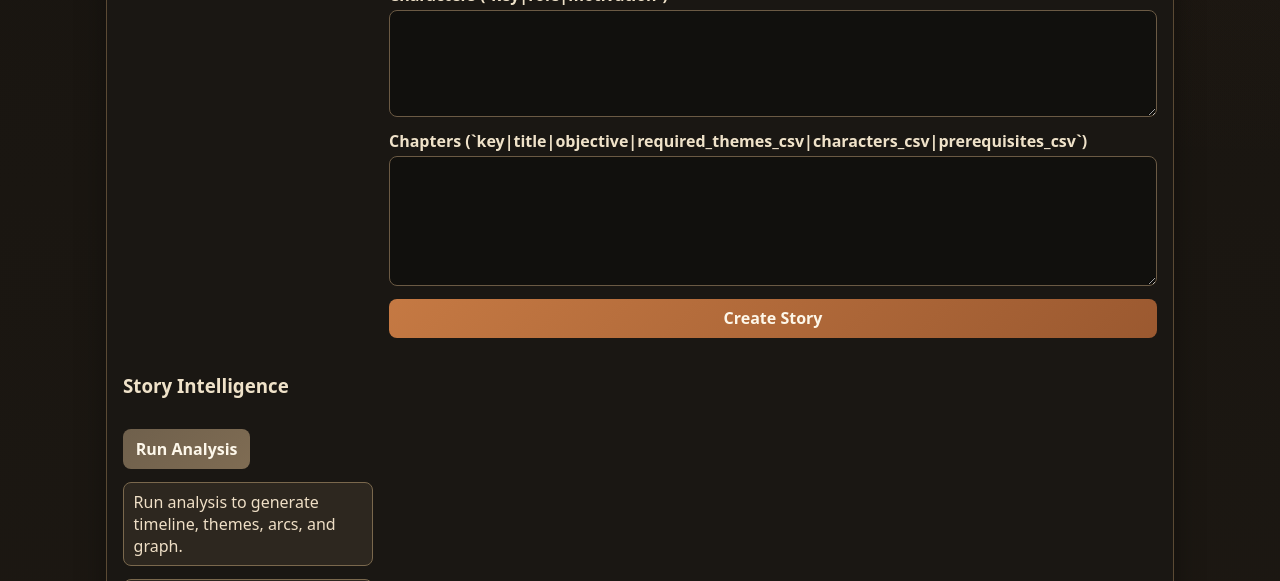
Test case: App › shows a guardrail message when saving without auth
(page scrolled)
What coordinates should you click on to do the following:
click the button "Create Story"
I would click on:
 (773, 318)
Its box is [389,298,1157,338].
(page scrolled)
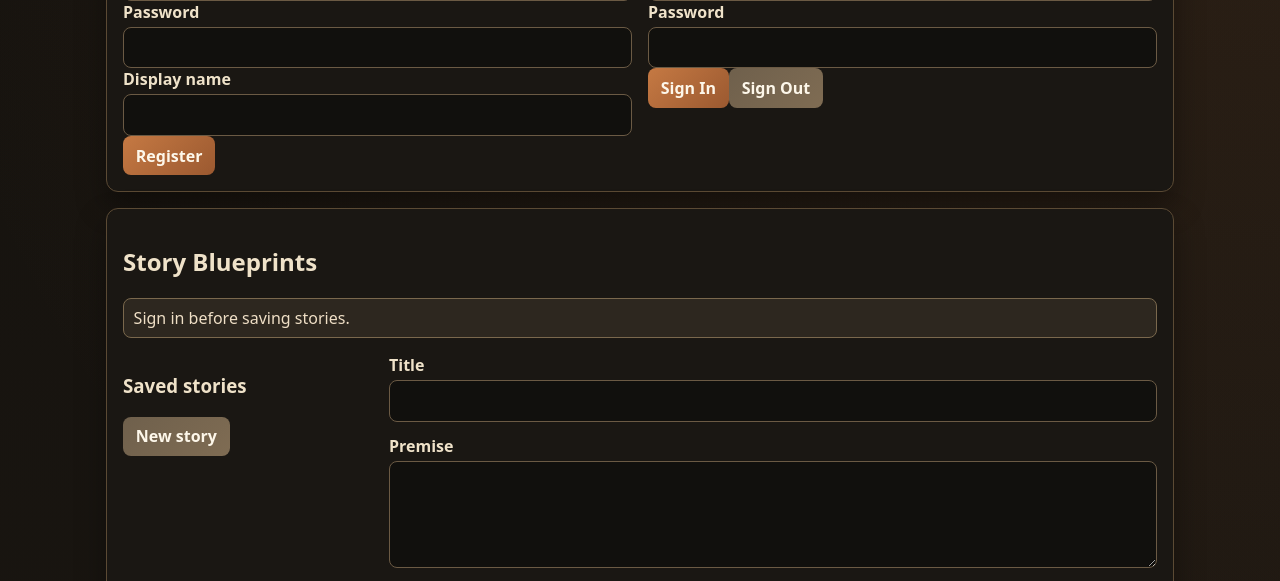
Expected: the text "Sign in before saving stories." is shown, [123,298,1157,338]
